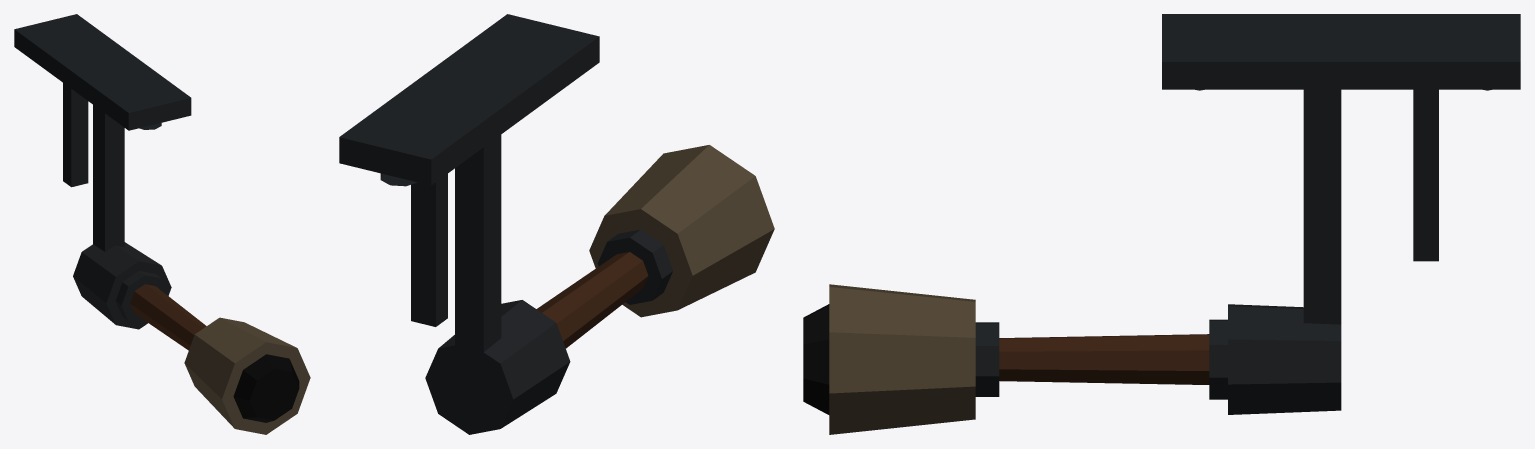
3 views of the same model, side by side, from view 1: azimuth 30°, elevation 25°; view 2: azimuth 150°, elevation 25°; view 3: azimuth 270°, elevation 25° (orthographic). The views are drawn at different scales.
Size of the model in its own units: 0.34 by 0.9225 by 1.52.
